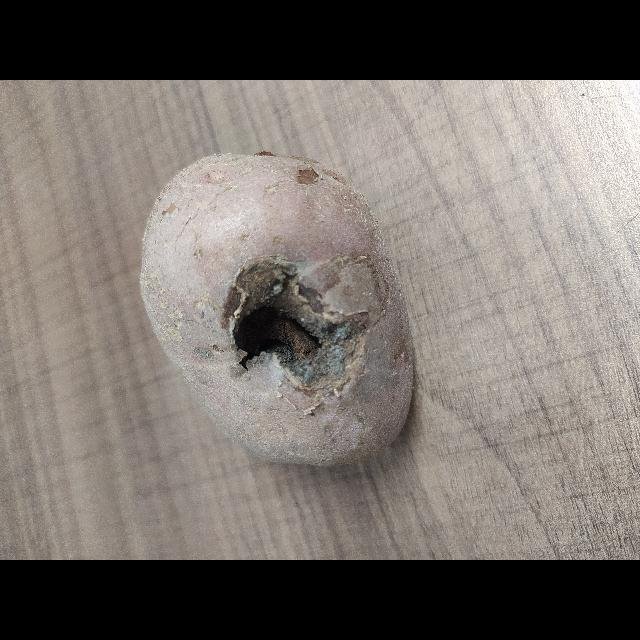Damaged potato: (87, 211, 416, 513)
